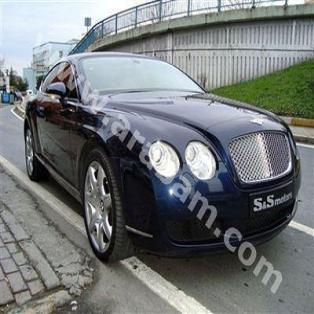Auto: (21, 51, 305, 266)
